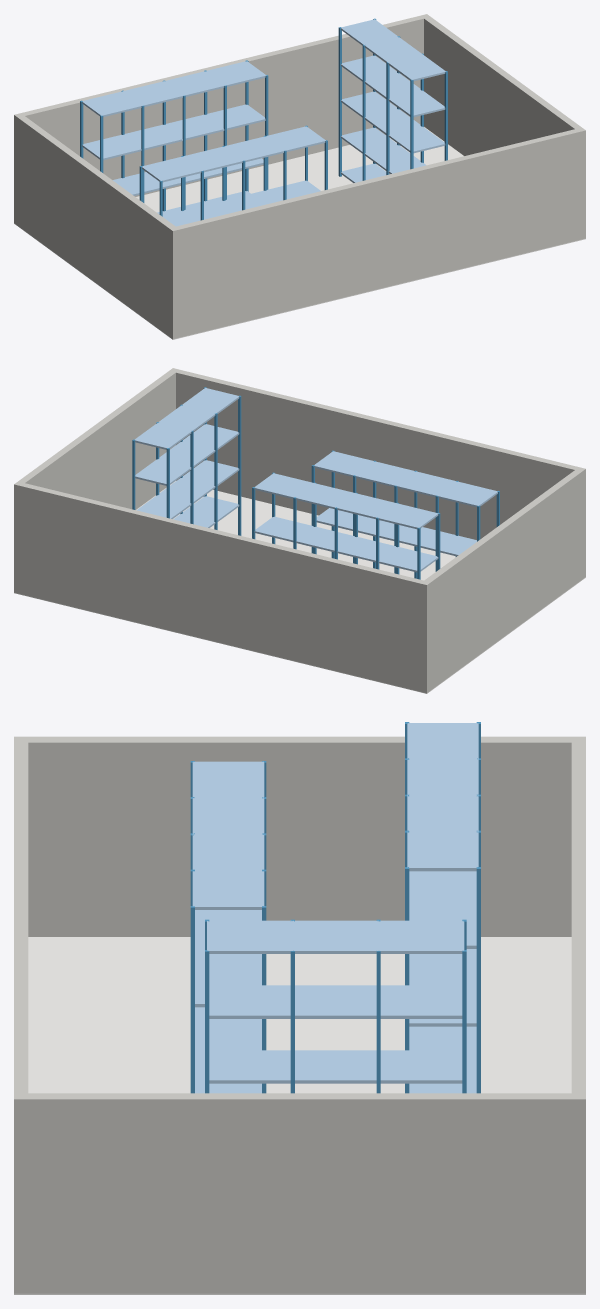
Rendered from 01-kho-nho-co-ban.glb.
The picture shows the model from 3 angles, top to bottom: view 1: azimuth 30°, elevation 25°; view 2: azimuth 150°, elevation 25°; view 3: azimuth 270°, elevation 25°; orthographic projection. The views are drawn at different scales.
Bounding box in the file's own units: 12 × 4.14 × 8.
